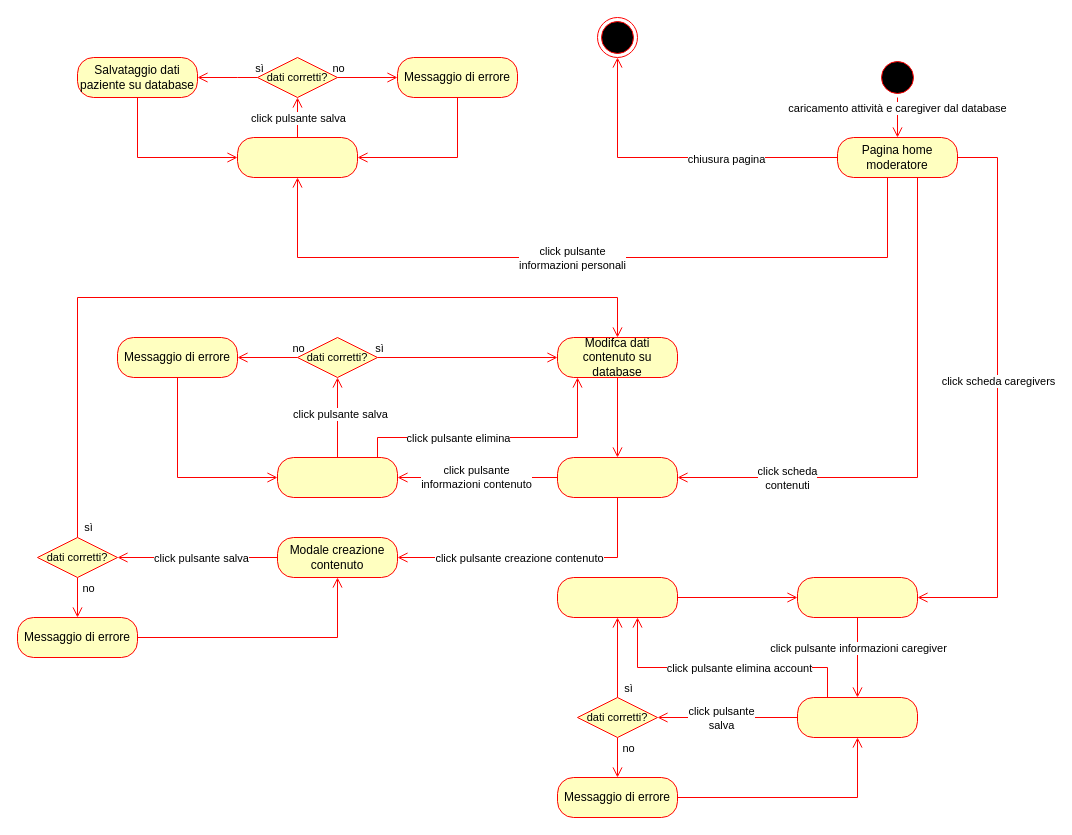
Image size: 1072x835. Some labels were removed from this diagram. Each missing label, with the centre of its shape:
Menù caregivers aperto: pixel 857 597
Menù contenuti: pixel 617 477
Modale informazioni caregiver: pixel 857 717
Modale informazioni contenuto: pixel 337 477
Modale informazioni personali: pixel 297 157
Modifica dati caregiver su database: pixel 617 597
